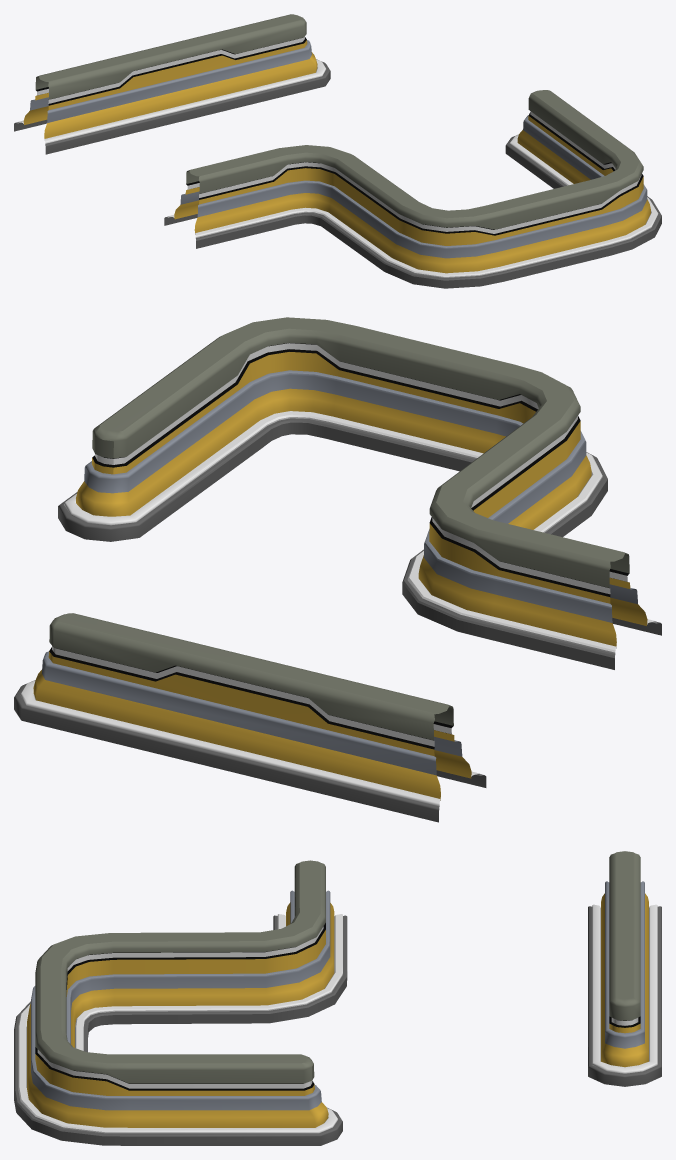
Rendered from Level12_Small_walls.fbx.
3 renders of one model, top to bottom at view 1: azimuth 30°, elevation 25°; view 2: azimuth 150°, elevation 25°; view 3: azimuth 270°, elevation 25°, orthographic. The views are drawn at different scales.
Visible parts, largest first — view 1: Small_wall_L12, Small_wallv1_7; view 2: Small_wall_L12, Small_wallv1_7; view 3: Small_wall_L12, Small_wallv1_7.
Boxes of the visible parts, x1,y1,x2,y2 form: Small_wall_L12: (164, 90, 661, 288); Small_wallv1_7: (14, 14, 330, 154); Small_wall_L12: (58, 317, 661, 669); Small_wallv1_7: (14, 613, 486, 822); Small_wall_L12: (14, 860, 347, 1145); Small_wallv1_7: (588, 851, 661, 1086).
Size of the model in its own units: 252 by 37.08 by 301.
